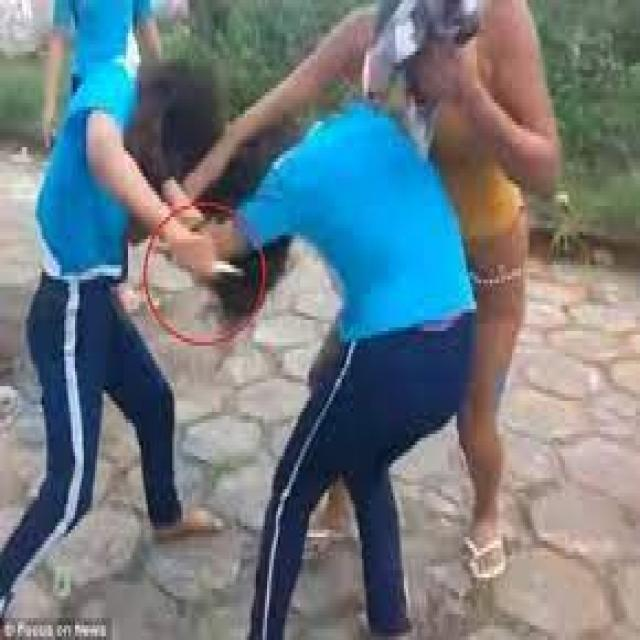fight: (22, 13, 640, 599), (194, 252, 254, 283)
